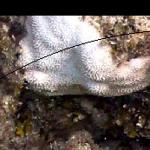alive: (1, 18, 147, 148)
